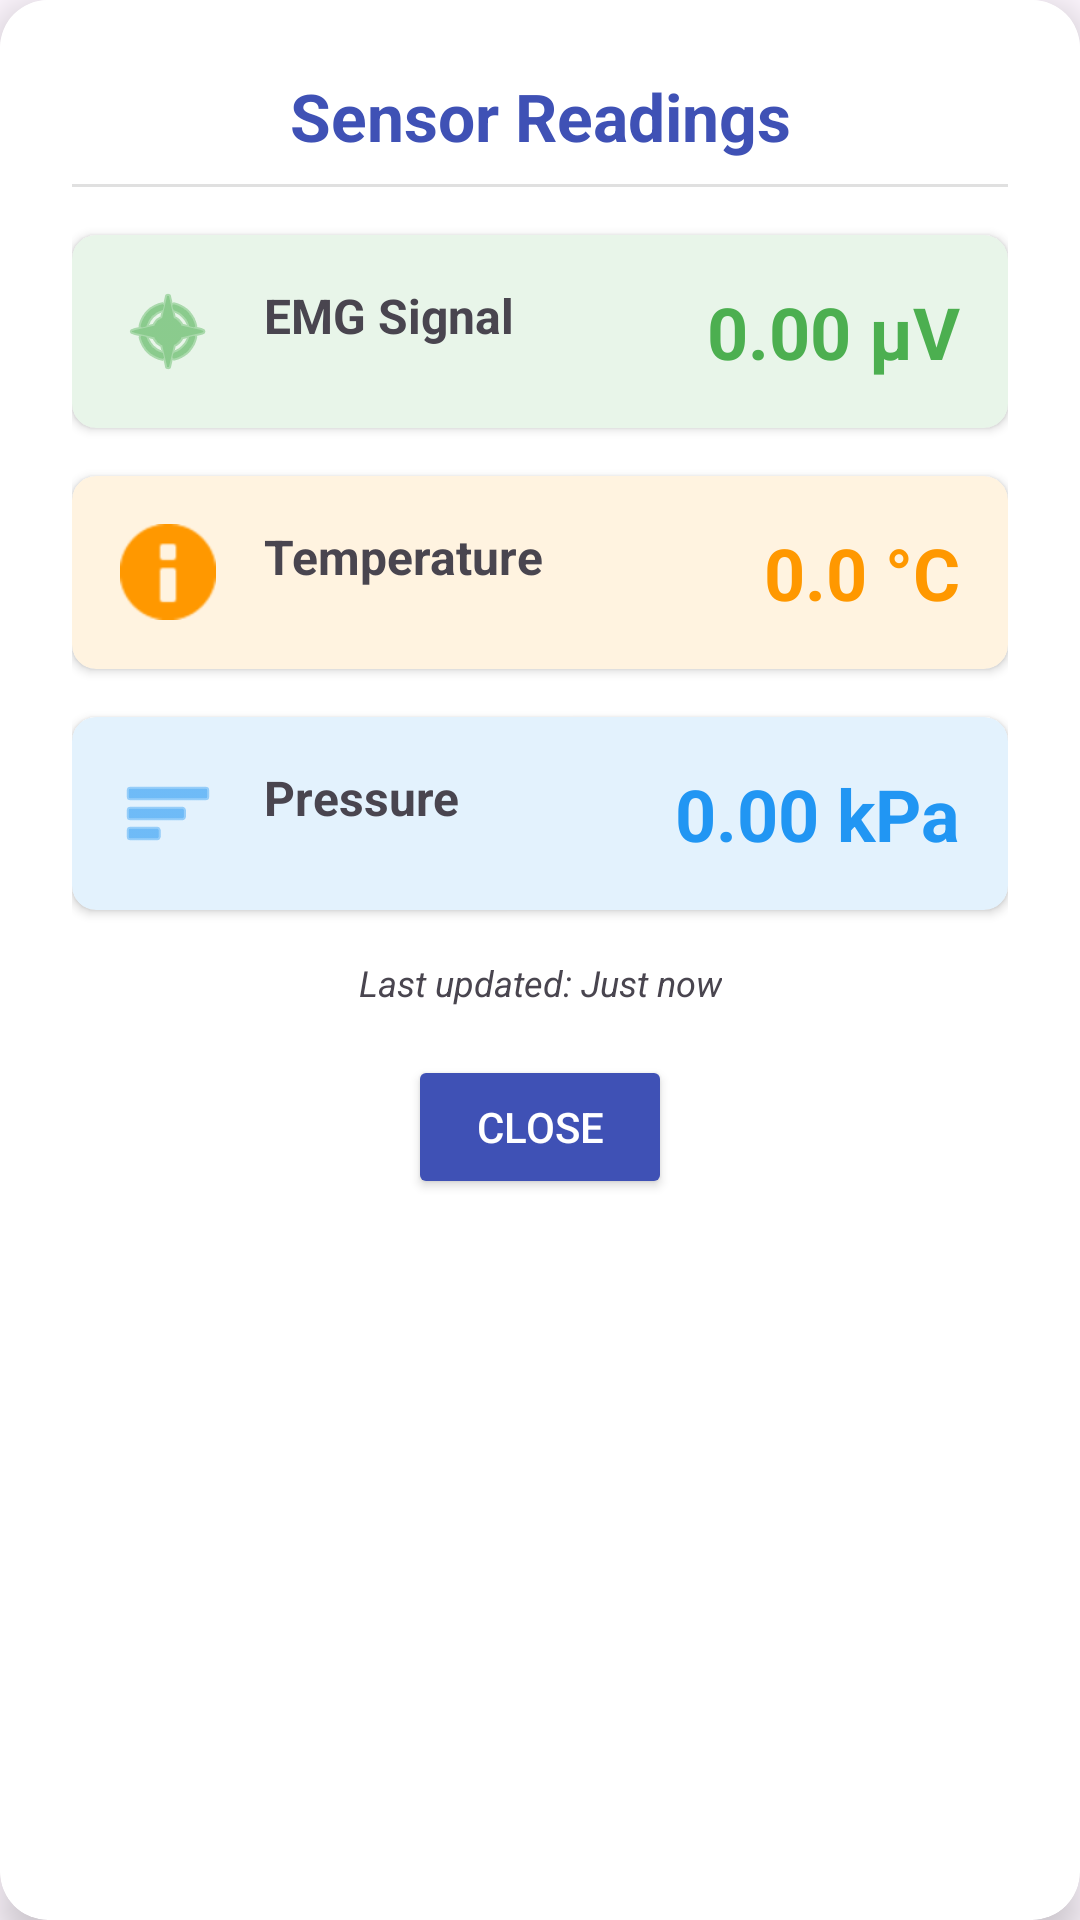

Point at icon controls on the screen. Image size 1080px×1920px, points as (x,y).
info: (168,572)
sort by size: (168,813)
